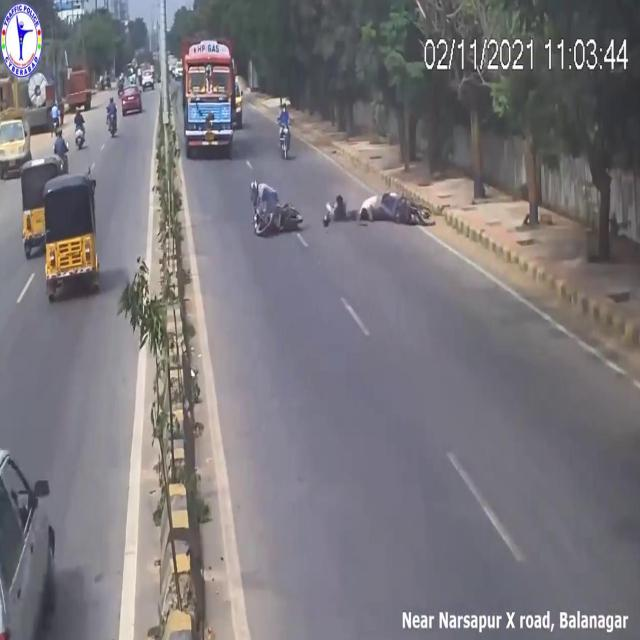accident: (245, 156, 439, 248)
non_accident: (5, 116, 107, 332), (178, 27, 251, 157), (131, 37, 161, 109)
